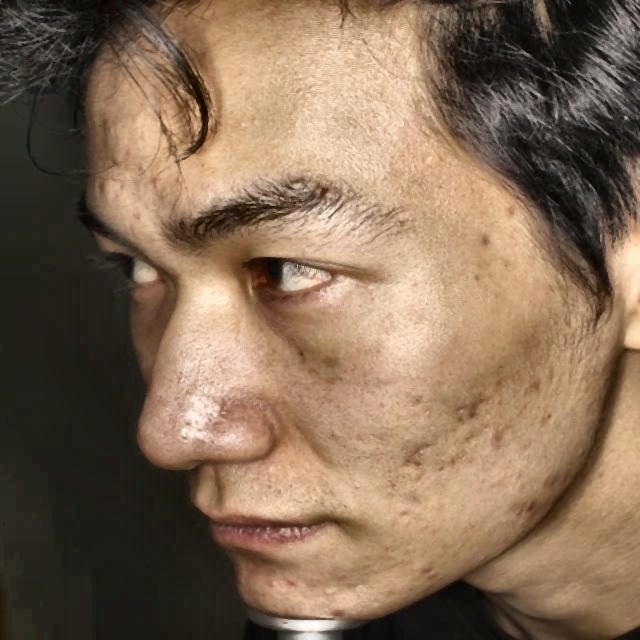comedone: (84, 174, 119, 200), (517, 490, 541, 522), (547, 469, 565, 494)
